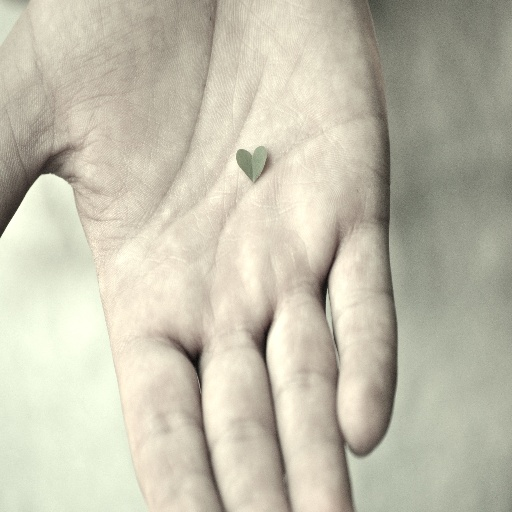hand: (0, 0, 397, 511)
